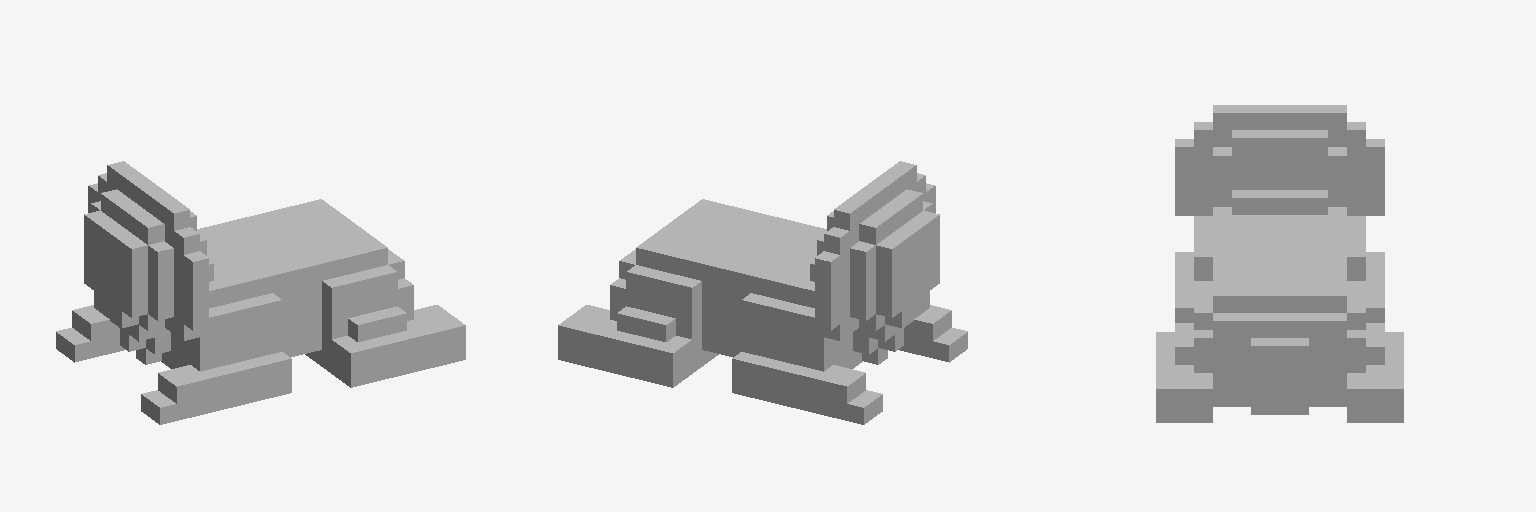
Rendered from Esfinge1.obj.
3 views of the same model, side by side, from view 1: azimuth 30°, elevation 25°; view 2: azimuth 150°, elevation 25°; view 3: azimuth 270°, elevation 25° (orthographic).
Parts seen in each view (by area): view 1: object 1; view 2: object 1; view 3: object 1.
Part boxes in pixels (x1,y1,x2,y2): object 1: (56,161,465,424); object 1: (558,161,967,424); object 1: (1156,105,1403,422).
Bounding box in the file's own units: 1.8 × 1.1 × 1.3.